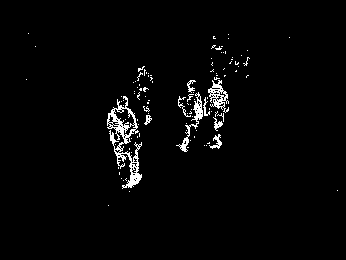person: (105, 94, 145, 190), (175, 80, 205, 151), (203, 76, 229, 149), (133, 63, 155, 125)
